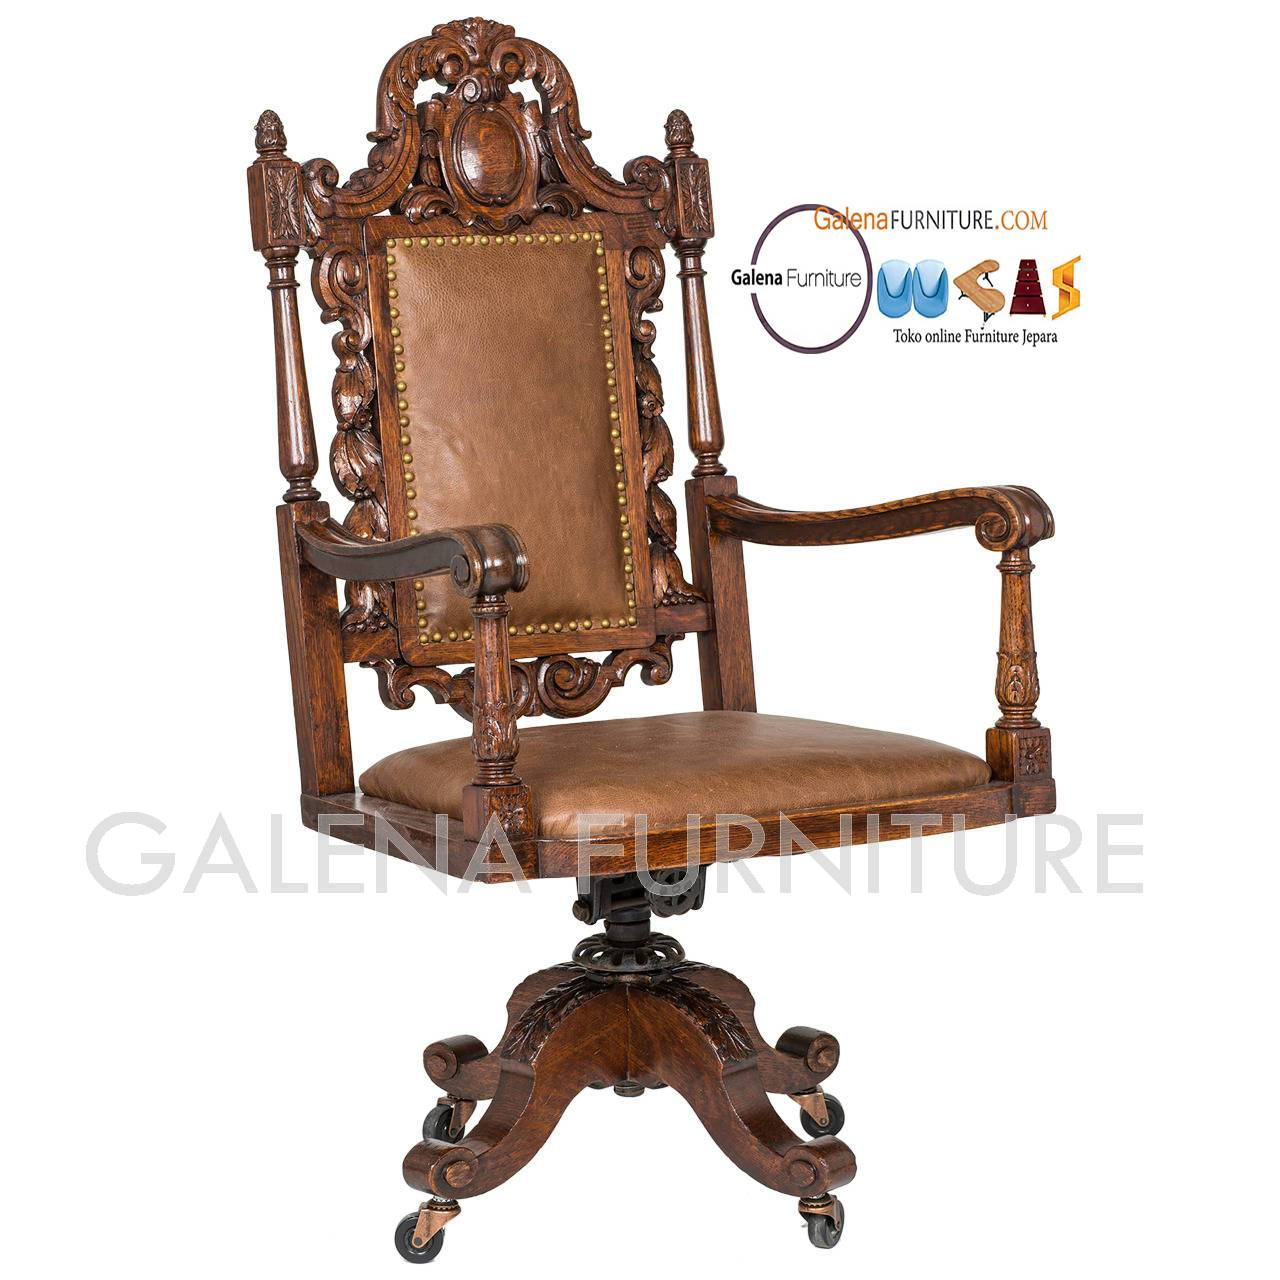Carving Chair: (197, 57, 1073, 1217)
